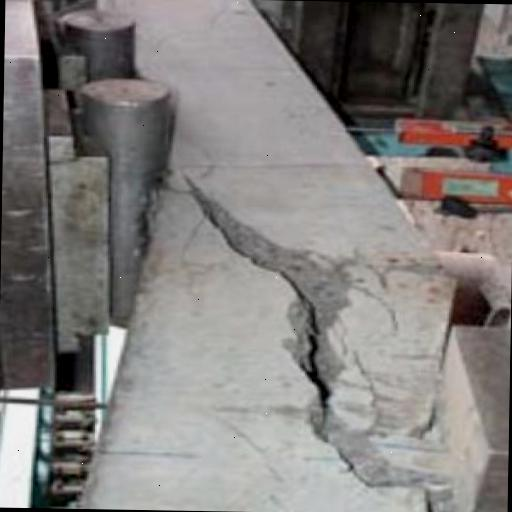spalling: (184, 174, 435, 493)
